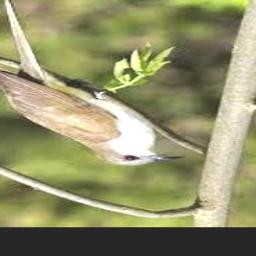Cuckoo: (0, 61, 185, 166)
